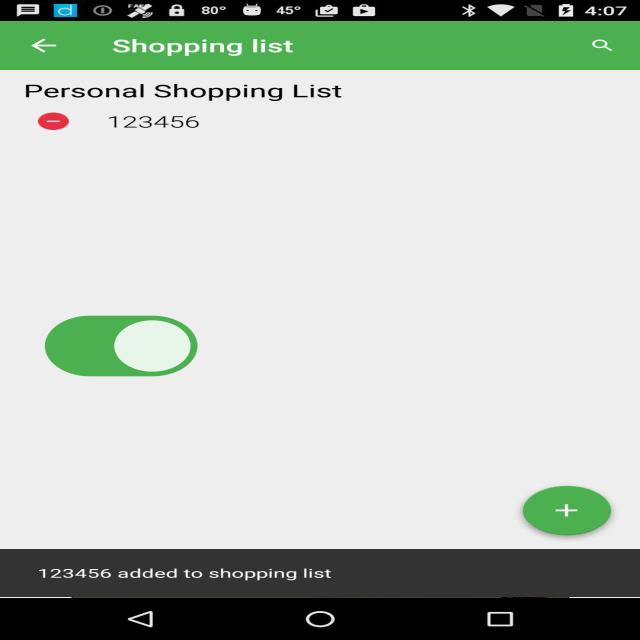social proof: (38, 292, 204, 404)
